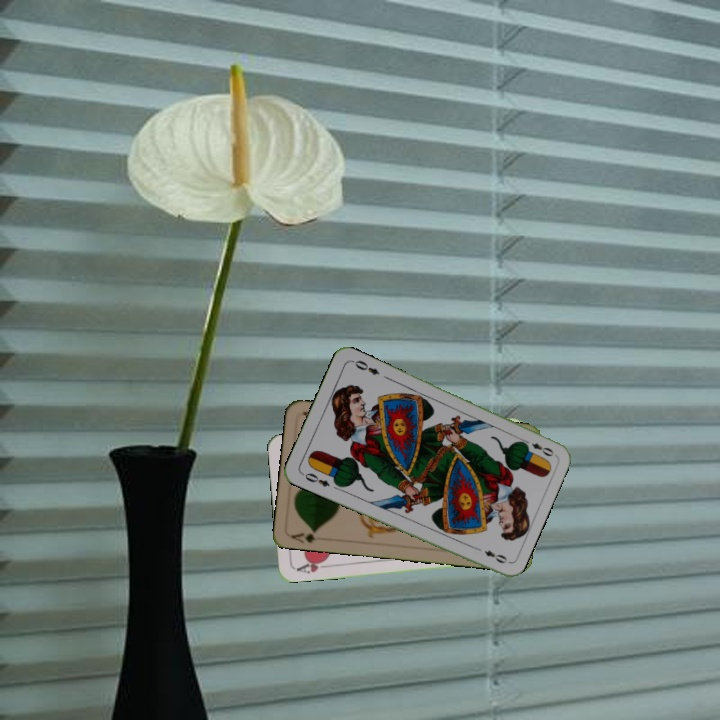EO: (518, 435, 556, 459), (298, 469, 332, 489)
GA: (288, 526, 319, 545)
HA: (293, 555, 332, 576)
